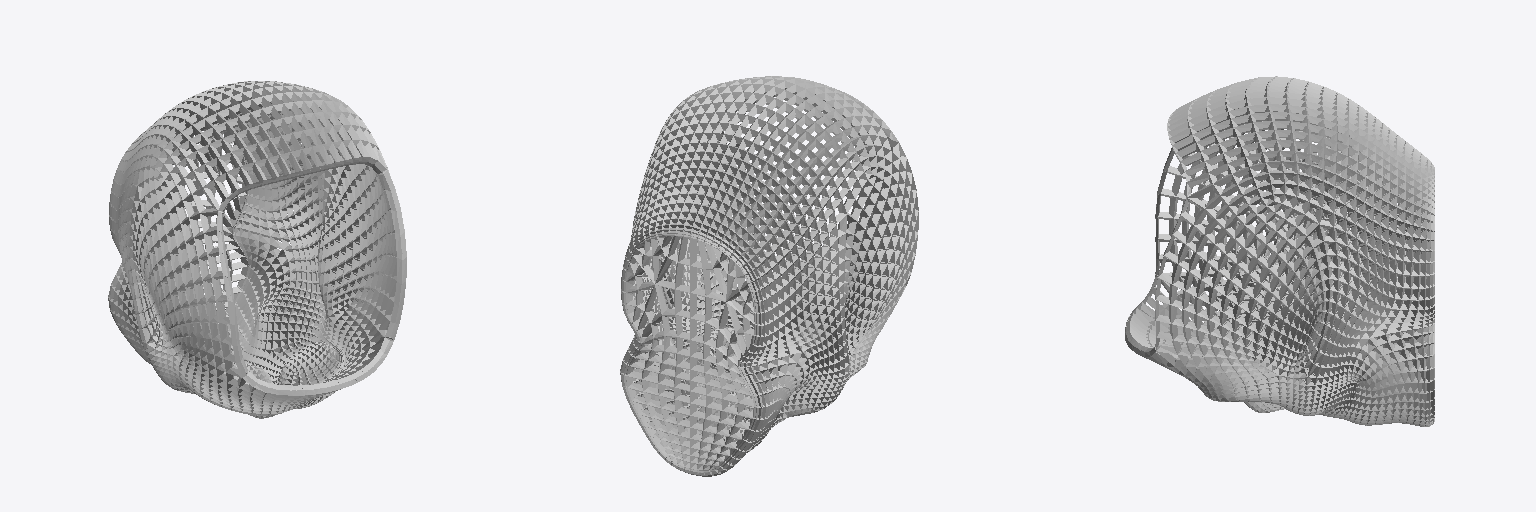
Rendered from skull-mesh.obj.
3 renders of one model, left to right at view 1: azimuth 30°, elevation 25°; view 2: azimuth 150°, elevation 25°; view 3: azimuth 270°, elevation 25°, orthographic.
Size of the model in its own units: 43.79 by 63.59 by 54.35.